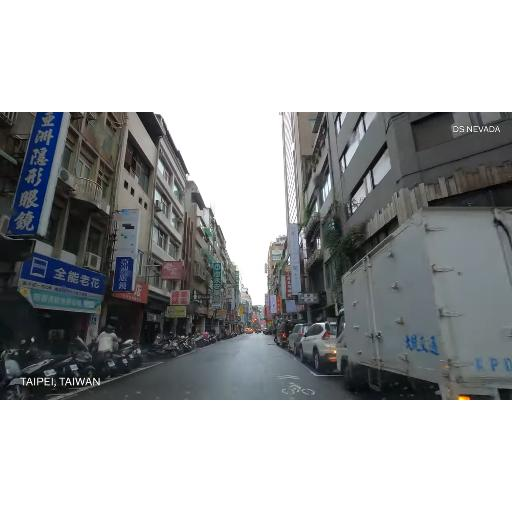Car: (332, 188, 512, 400), (297, 317, 349, 375), (286, 320, 316, 356), (276, 320, 296, 350), (246, 328, 254, 336)
